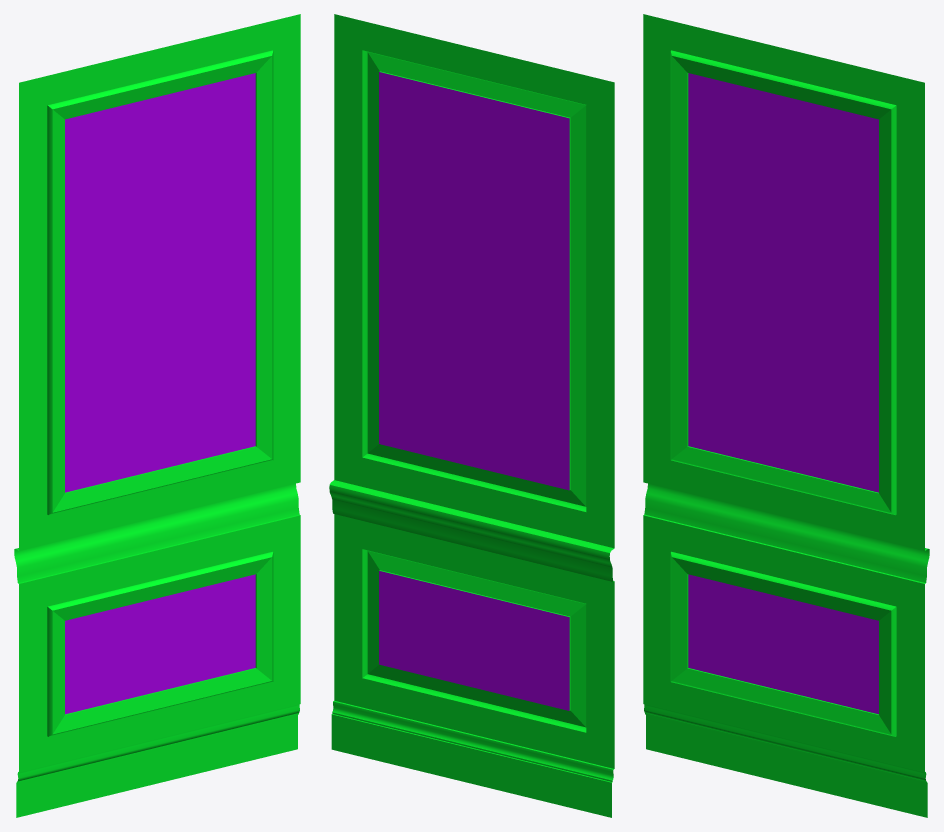
File: AR-Wall_1M_01.FBX
3 views of the same model, side by side, from view 1: azimuth 30°, elevation 25°; view 2: azimuth 150°, elevation 25°; view 3: azimuth 330°, elevation 25° (orthographic).
Visible parts, largest first — view 1: AR-Wall_1M_01; view 2: AR-Wall_1M_01; view 3: AR-Wall_1M_01.
Boxes of the visible parts, box(x1,y1,x2,y2) form: AR-Wall_1M_01: box(14, 14, 300, 817); AR-Wall_1M_01: box(329, 14, 614, 817); AR-Wall_1M_01: box(643, 14, 929, 817).
Bounding box in the file's own units: 100 × 250 × 4.49.
